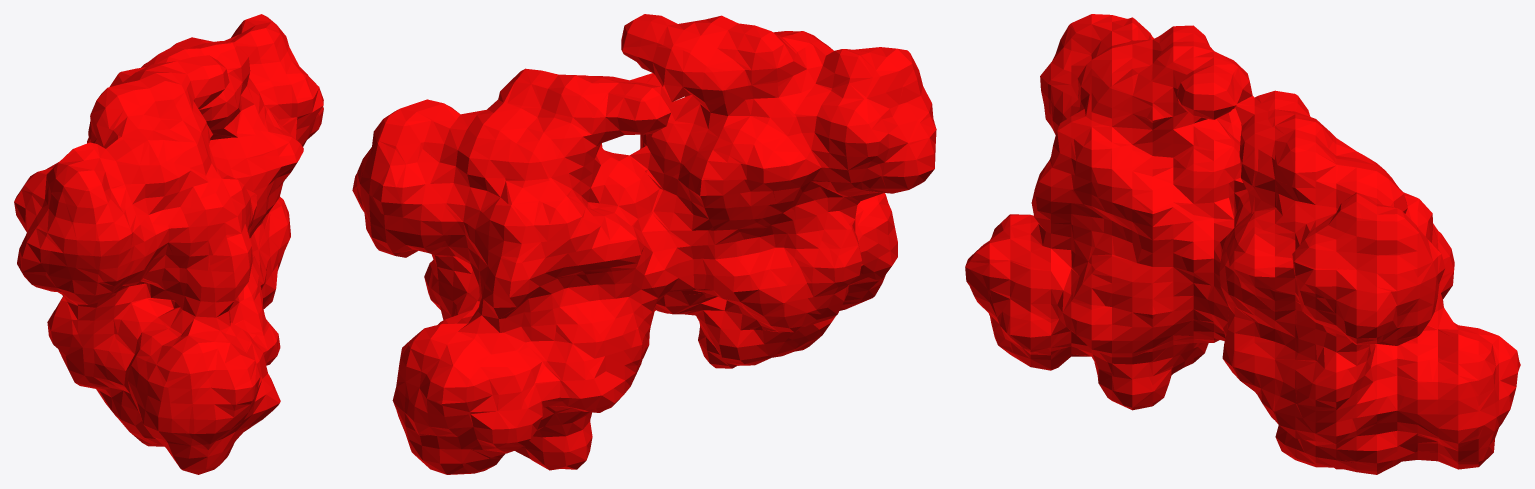
Rendered from hisS_coarse.dae.
3 renders of one model, left to right at view 1: azimuth 30°, elevation 25°; view 2: azimuth 150°, elevation 25°; view 3: azimuth 270°, elevation 25°, orthographic. The views are drawn at different scales.
Parts seen in each view (by area): view 1: hisS; view 2: hisS; view 3: hisS.
Part boxes in pixels (box(x1,y1,x2,y2)): hisS: box(14, 14, 323, 474); hisS: box(352, 14, 936, 474); hisS: box(965, 14, 1520, 474).
Bounding box in the file's own units: 117 × 100 × 131.
